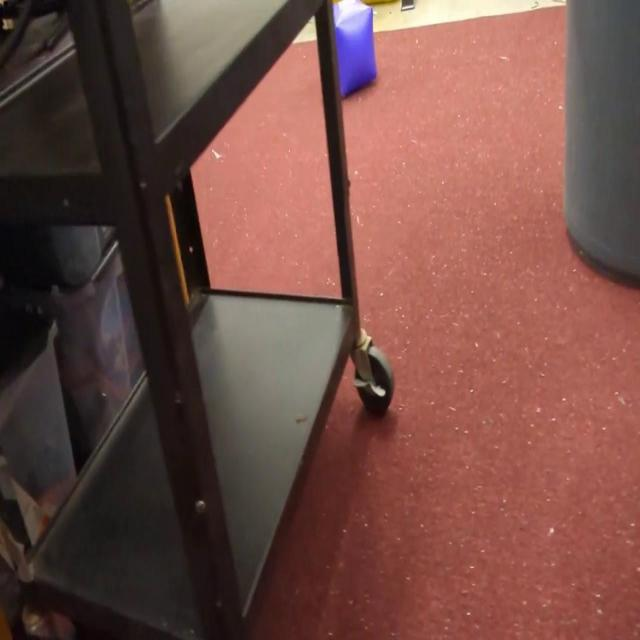frc_cube: (332, 0, 377, 97)
